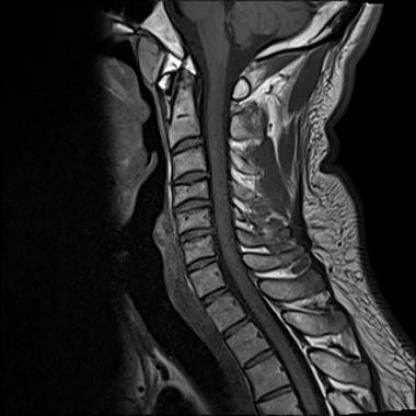Disc Bulgerotation: (172, 168, 210, 187), (185, 254, 220, 272), (171, 197, 213, 212), (169, 136, 206, 153), (178, 225, 214, 242)
Disc Protrusionrotation: (185, 254, 221, 271)
